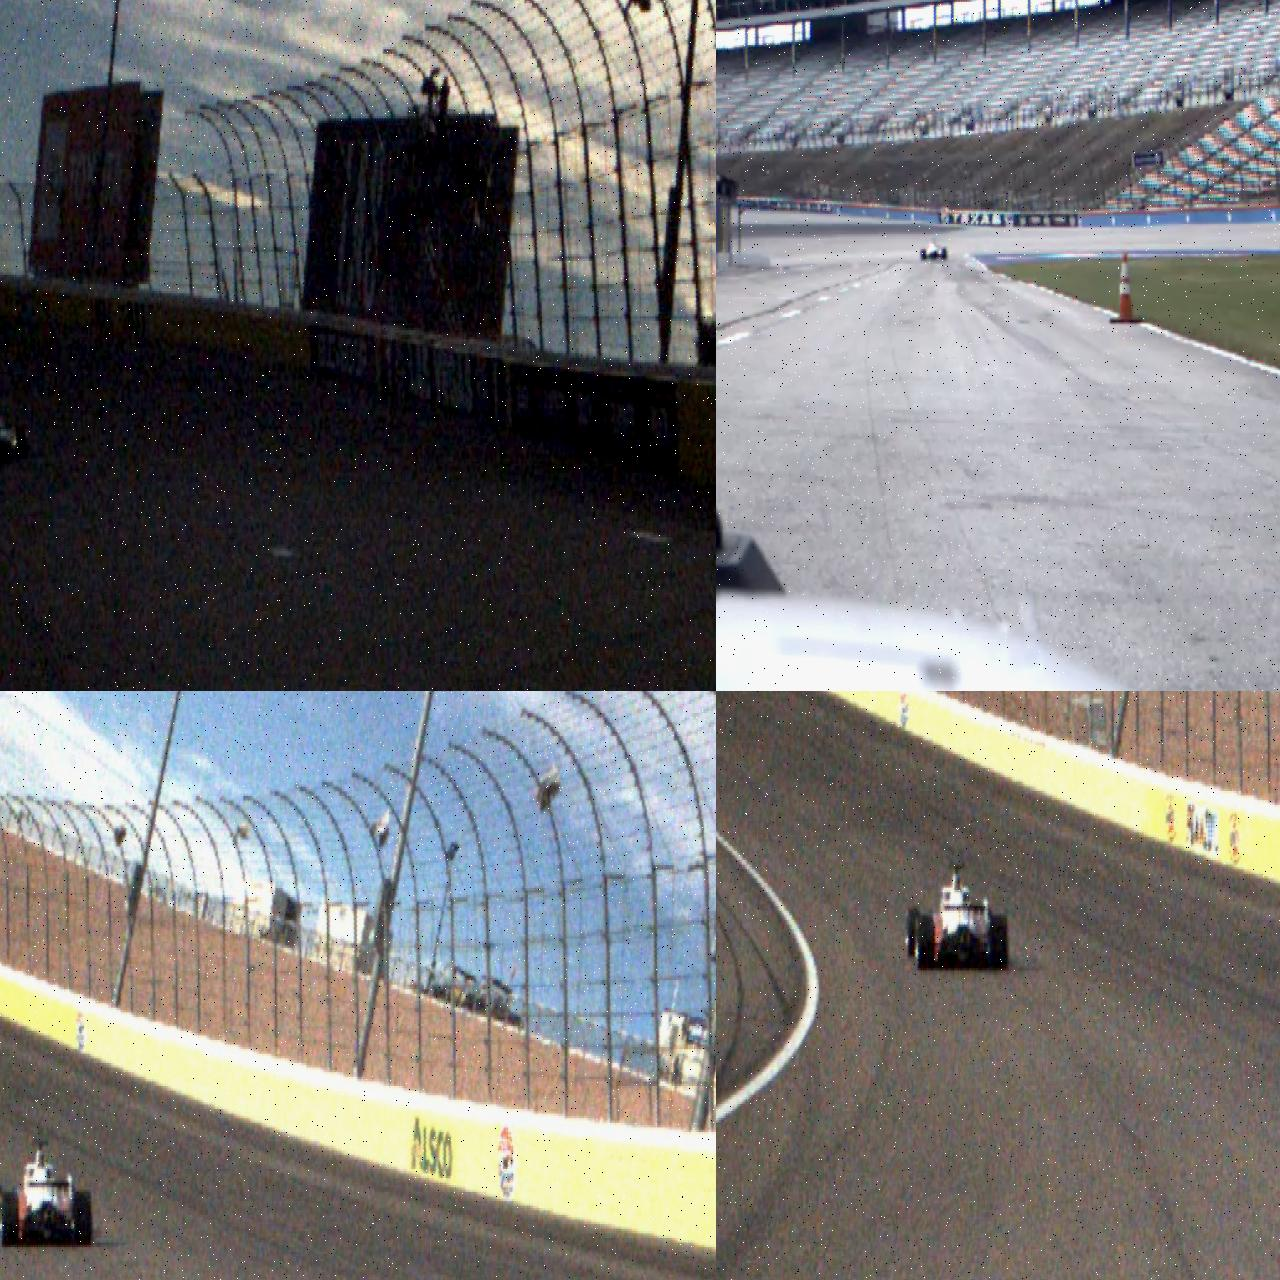AV: (905, 862, 1009, 972), (0, 1141, 93, 1248), (0, 406, 30, 463), (919, 238, 947, 260)
Wheel: (74, 1190, 93, 1248), (1, 1190, 19, 1248), (917, 915, 934, 972), (990, 914, 1008, 971), (906, 907, 921, 958), (18, 430, 29, 463), (0, 1183, 5, 1235), (941, 247, 947, 261), (920, 248, 926, 261)
